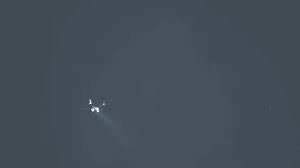Plane: (67, 90, 127, 128)
